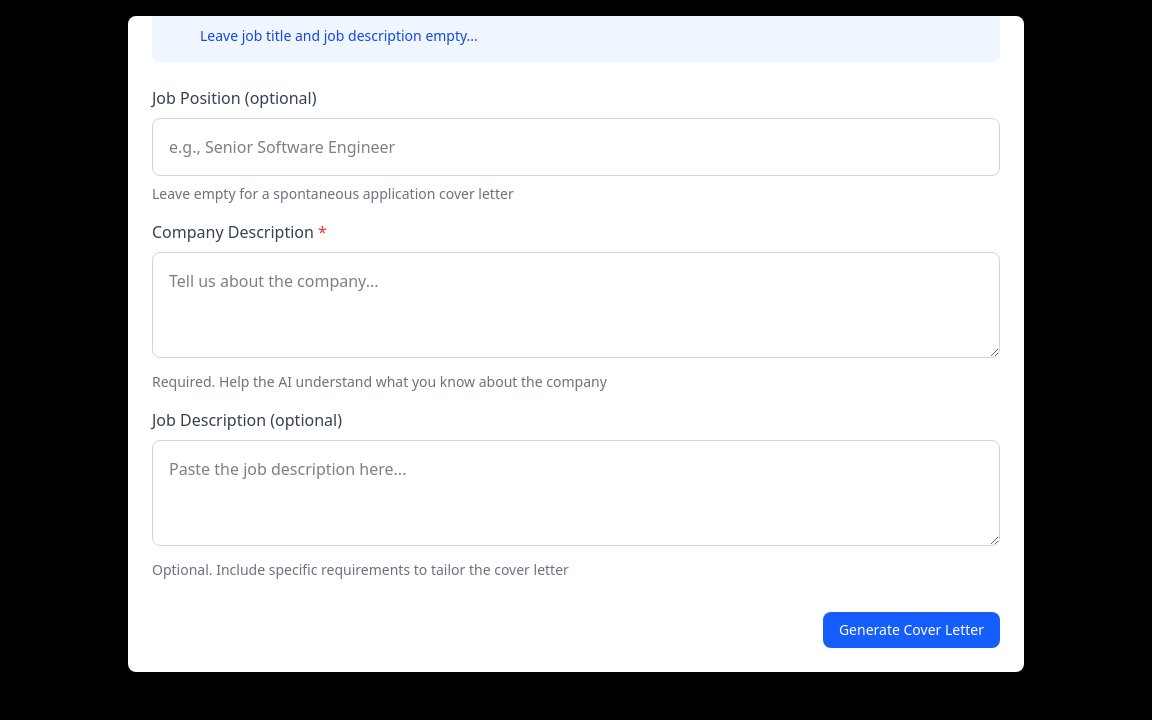
Scenario: Cover Letter Error Handling › Client-side Validation Errors › should show validation error for empty company description
The image size is (1152, 720).
(page scrolled)
Click the button "Generate Cover Letter" at (911, 630), box [823, 612, 1000, 648]
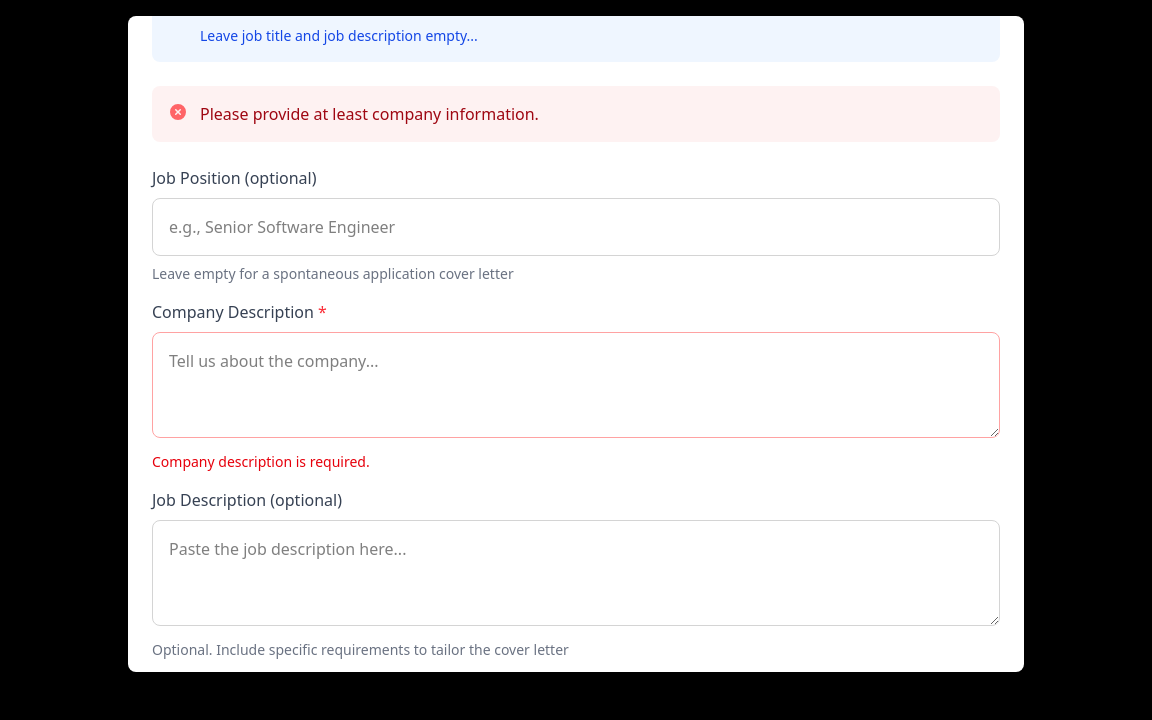
Now the text "Company description is required." is shown, box [152, 452, 370, 471]
